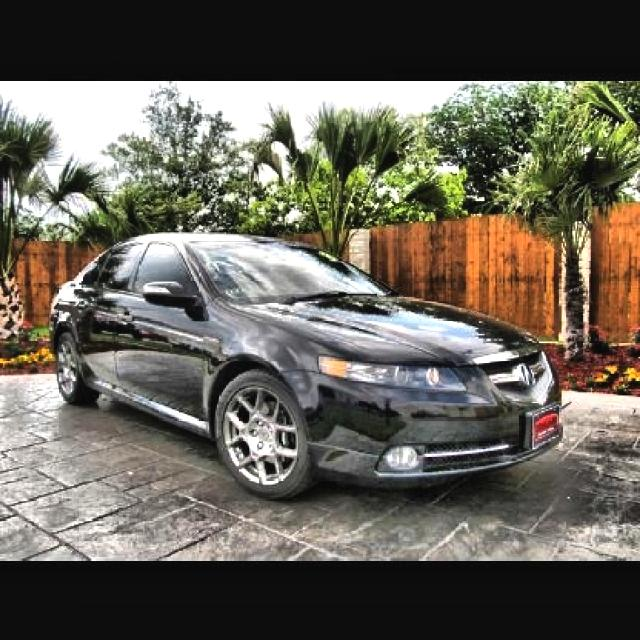black: (0, 237, 589, 475)
